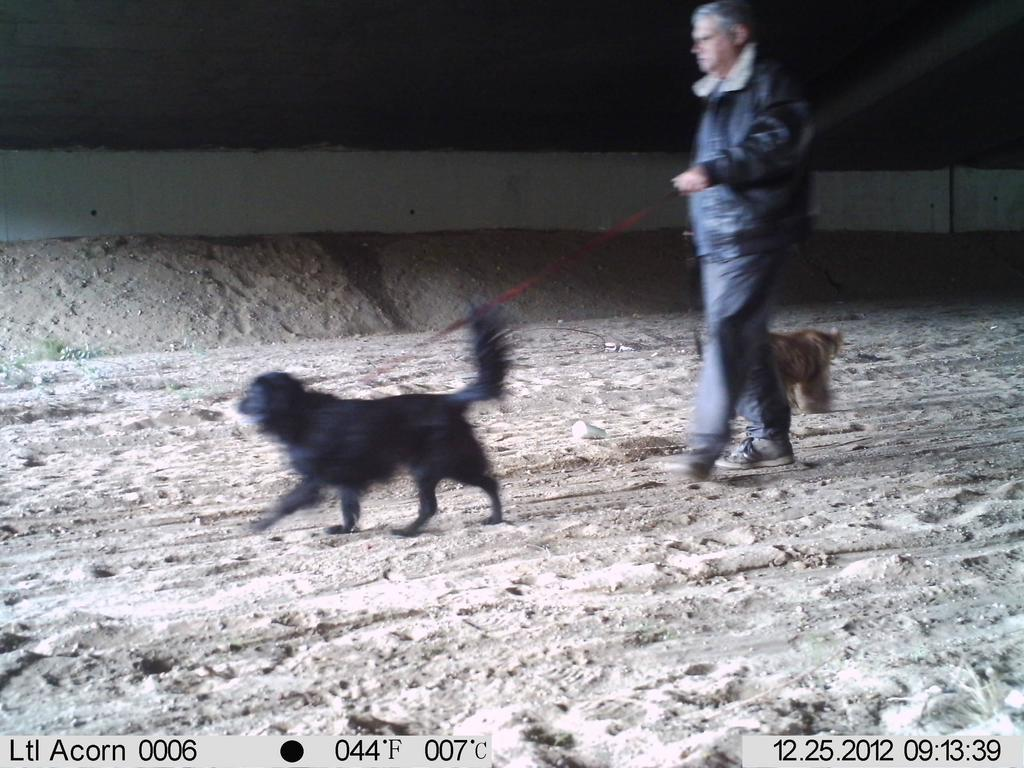dog: (222, 295, 535, 542), (697, 313, 841, 432)
